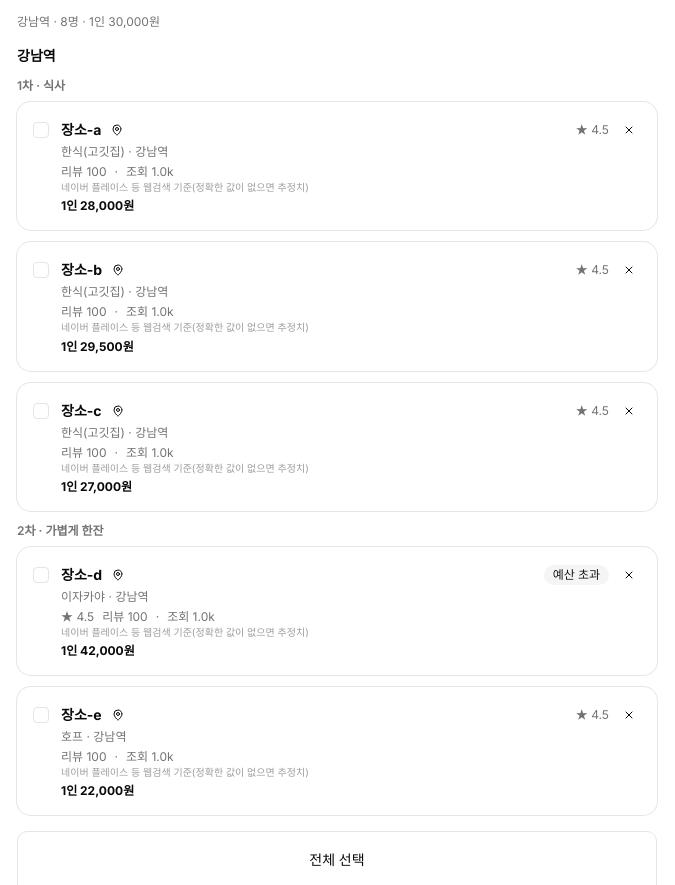
it: ResultList › 체크된 카드를 삭제하면 선택 개수도 함께 줄어든다
Click the checkbox named "장소-a 선택" at coordinates (41, 130), box left=33, top=122, right=49, bottom=138
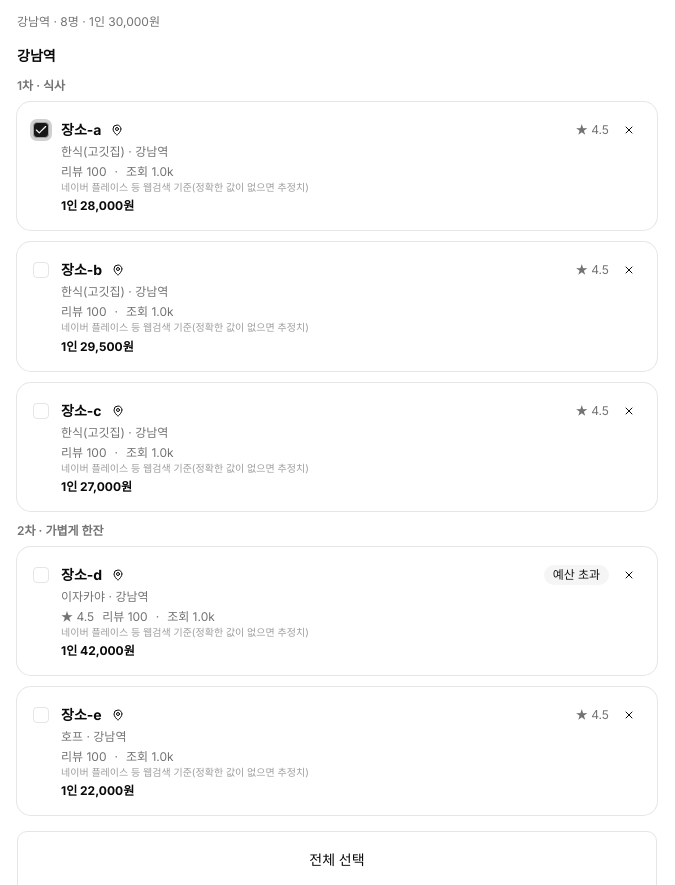
Click the button named "장소-a 삭제" at coordinates (629, 130), box left=617, top=118, right=641, bottom=142
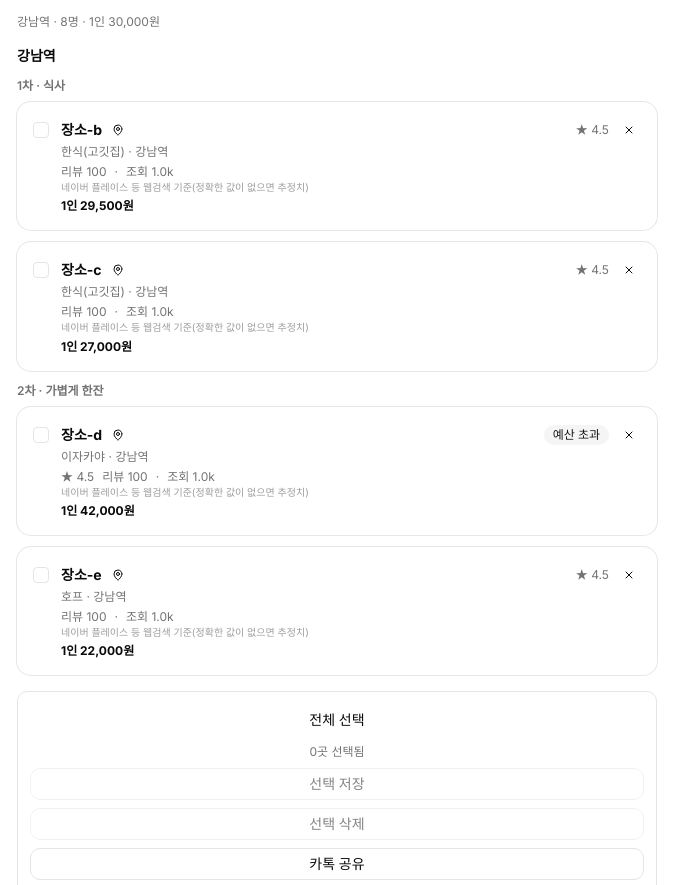
Expected: the text "0곳 선택됨" is shown, left=309, top=744, right=364, bottom=760
